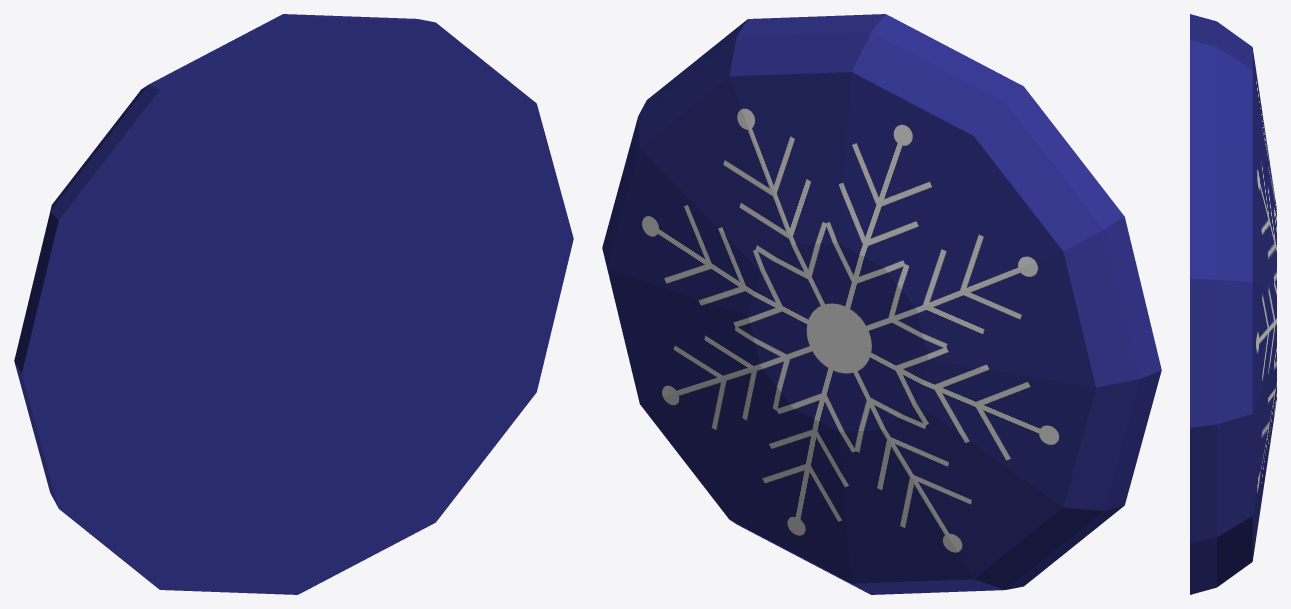
Rendered from new_freeze_button.fbx.
3 views of the same model, side by side, from view 1: azimuth 30°, elevation 25°; view 2: azimuth 150°, elevation 25°; view 3: azimuth 270°, elevation 25° (orthographic). The views are drawn at different scales.
Parts seen in each view (by area): view 1: FreezeBoxButton2; view 2: FreezeBoxButton2; view 3: FreezeBoxButton2.
Part boxes in pixels (box(x1,y1,x2,y2)): FreezeBoxButton2: box(14, 14, 573, 594); FreezeBoxButton2: box(602, 14, 1161, 594); FreezeBoxButton2: box(1190, 14, 1276, 594).
Bounding box in the file's own units: 54.11 × 54.11 × 8.06.
Materials: 1 (1 with a texture image).
